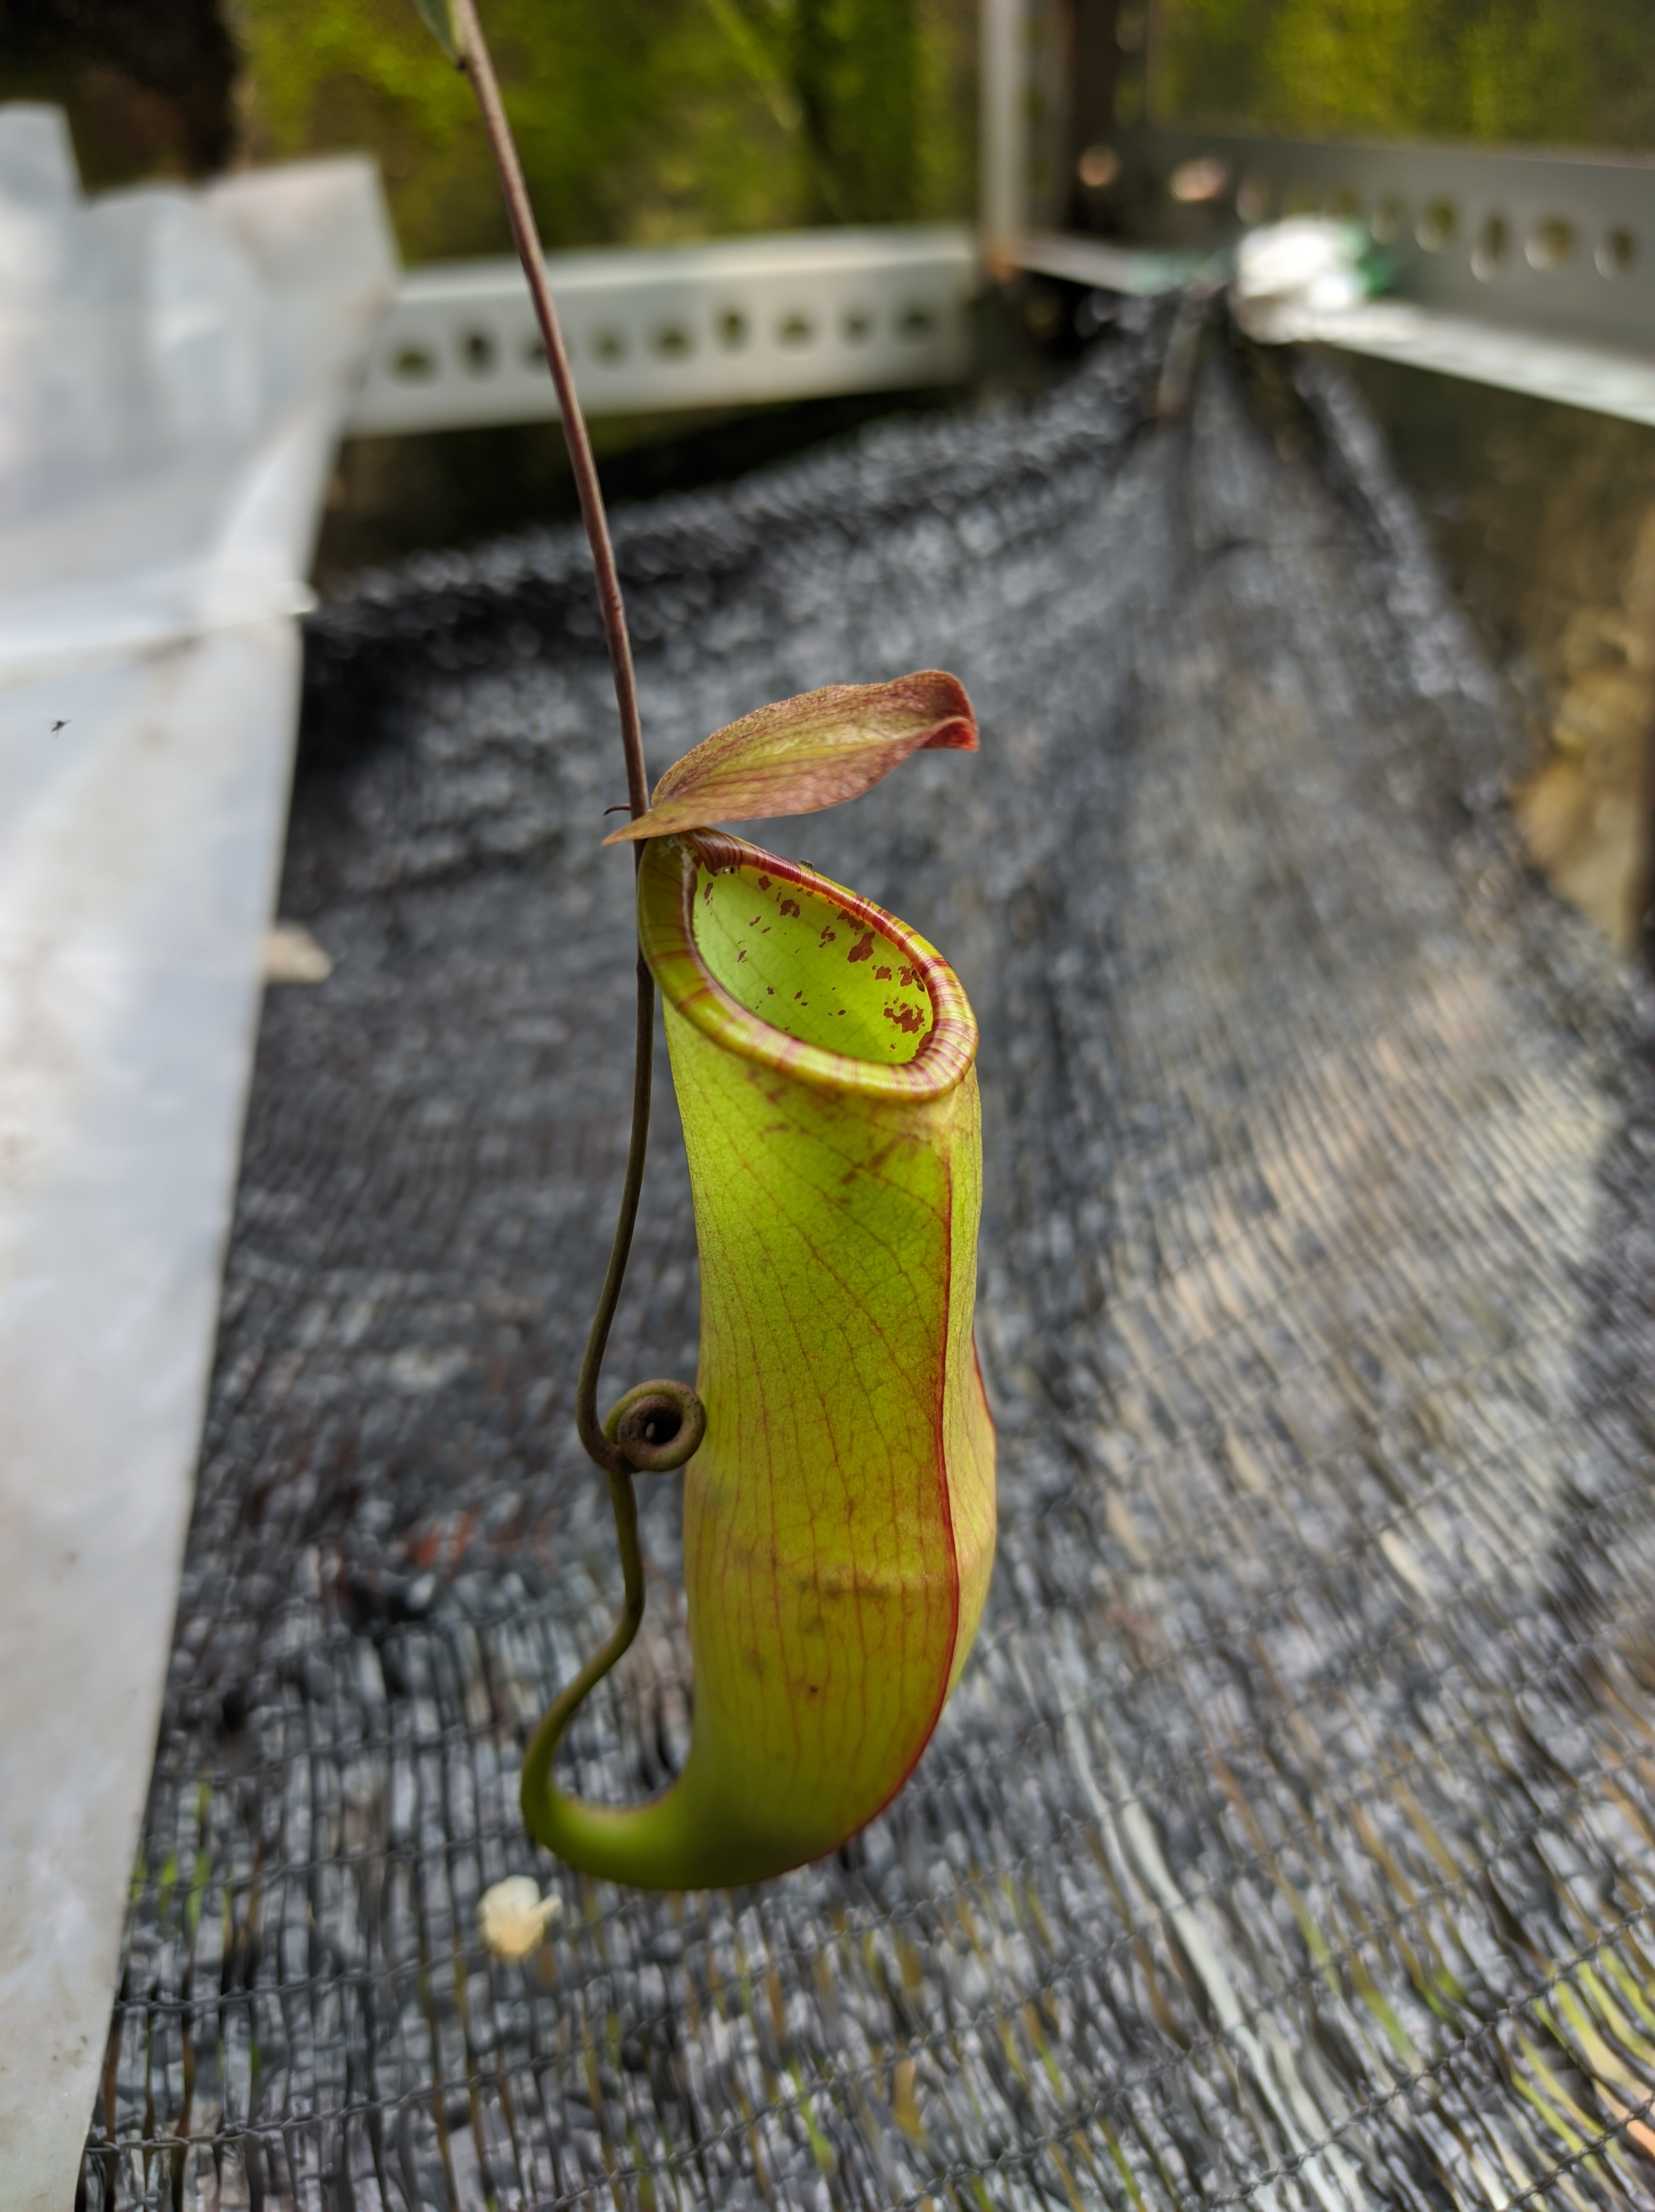Eustachya: (476, 626, 1133, 1930)
